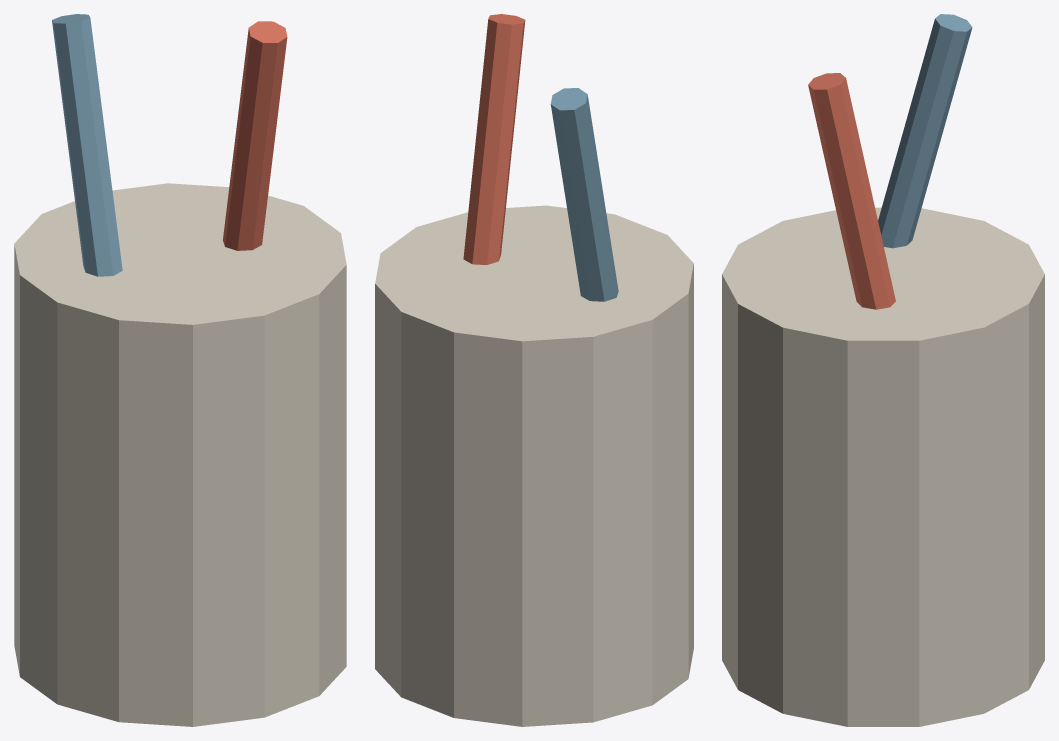
Rendered from hh_toothbrush_cup.glb.
The picture shows the model from 3 angles, left to right: view 1: azimuth 30°, elevation 25°; view 2: azimuth 150°, elevation 25°; view 3: azimuth 270°, elevation 25°; orthographic projection. The views are drawn at different scales.
Parts seen in each view (by area): view 1: cup, brush.001, brush; view 2: cup, brush, brush.001; view 3: cup, brush, brush.001.
Part boxes in pixels (bbox=[...]): cup: bbox=[14, 183, 346, 726]; brush.001: bbox=[52, 14, 122, 276]; brush: bbox=[223, 21, 287, 250]; cup: bbox=[375, 205, 693, 726]; brush: bbox=[463, 14, 525, 264]; brush.001: bbox=[550, 88, 618, 301]; cup: bbox=[722, 207, 1044, 726]; brush: bbox=[808, 73, 895, 309]; brush.001: bbox=[878, 14, 972, 248].
Bounding box in the file's own units: 0.0975 × 0.2084 × 0.1.
